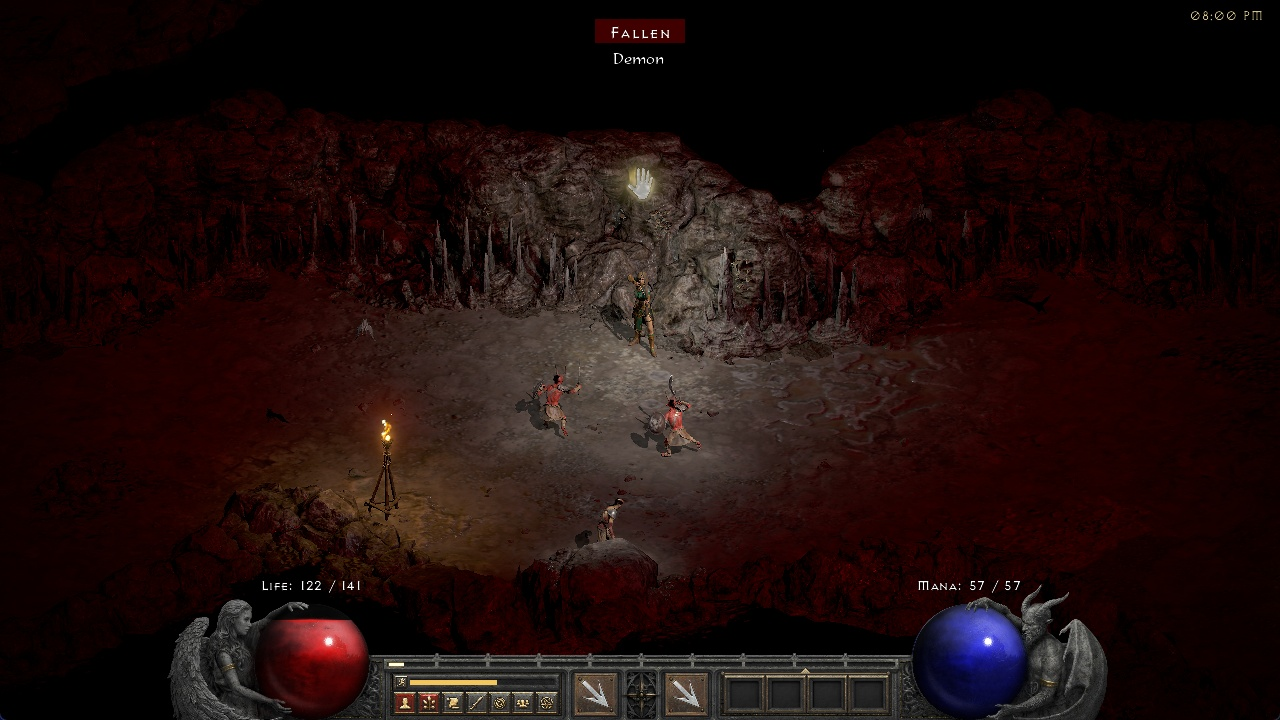fallen: (645, 373, 703, 456), (528, 364, 582, 436)
